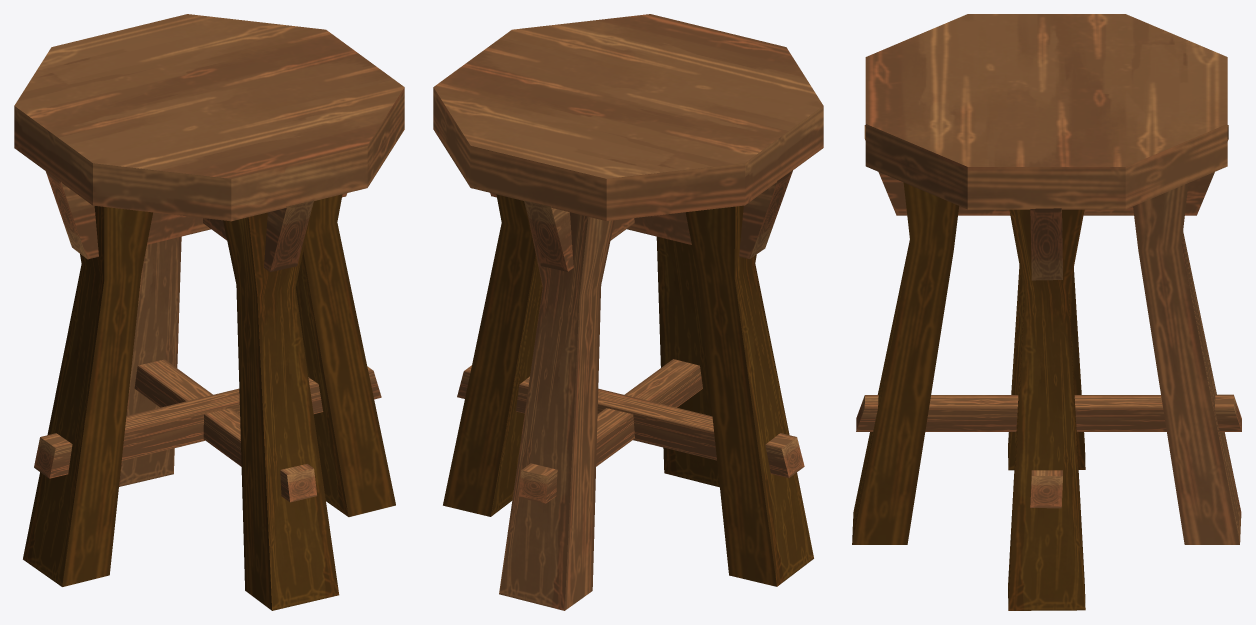
Rendered from Stool.gltf.
The picture shows the model from 3 angles, left to right: view 1: azimuth 30°, elevation 25°; view 2: azimuth 150°, elevation 25°; view 3: azimuth 270°, elevation 25°; orthographic projection.
Visible parts, largest first — view 1: Stool; view 2: Stool; view 3: Stool.
Boxes of the visible parts, bbox=[...] form: Stool: bbox=[14, 14, 404, 610]; Stool: bbox=[433, 14, 823, 610]; Stool: bbox=[852, 14, 1241, 610].
Bounding box in the file's own units: 0.4746 × 0.5887 × 0.4746.
1 material, 1 textured.
